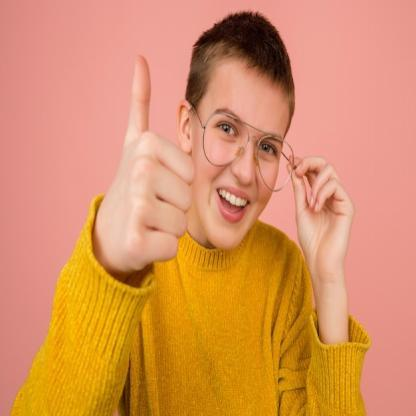thumb_up: (102, 56, 196, 268)
